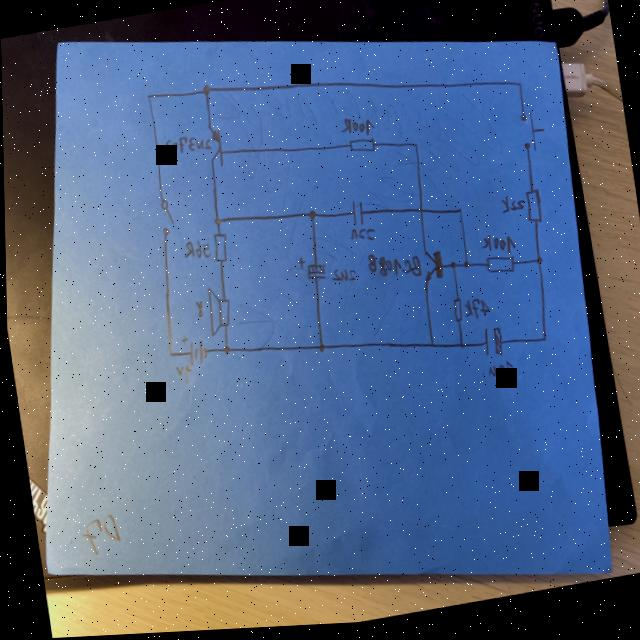capacitor: (295, 255, 326, 287), (477, 328, 504, 363), (347, 200, 364, 229)
crossover: (414, 208, 424, 219)
junction: (199, 82, 211, 98), (304, 210, 316, 224), (219, 344, 229, 358), (446, 263, 456, 276), (532, 259, 542, 271), (314, 343, 323, 355), (211, 216, 220, 228), (459, 263, 468, 274), (143, 91, 151, 102), (454, 209, 462, 219), (165, 349, 172, 360), (425, 343, 432, 353), (455, 343, 462, 353), (515, 84, 522, 93), (538, 339, 545, 348), (411, 143, 418, 152)
resistor: (521, 191, 545, 232), (482, 255, 515, 281), (208, 231, 229, 266), (345, 137, 376, 159), (449, 300, 462, 327)
source: (177, 332, 207, 369)
switch: (515, 110, 545, 160), (154, 196, 177, 239)
text: (362, 247, 420, 287), (157, 132, 210, 159), (477, 232, 515, 262), (337, 116, 375, 142), (179, 238, 210, 264), (480, 362, 512, 385), (460, 299, 488, 325), (327, 267, 356, 288), (497, 197, 524, 219), (346, 227, 375, 247), (171, 362, 192, 385), (191, 298, 202, 319)
transistor: (198, 121, 229, 173), (416, 248, 444, 289)
